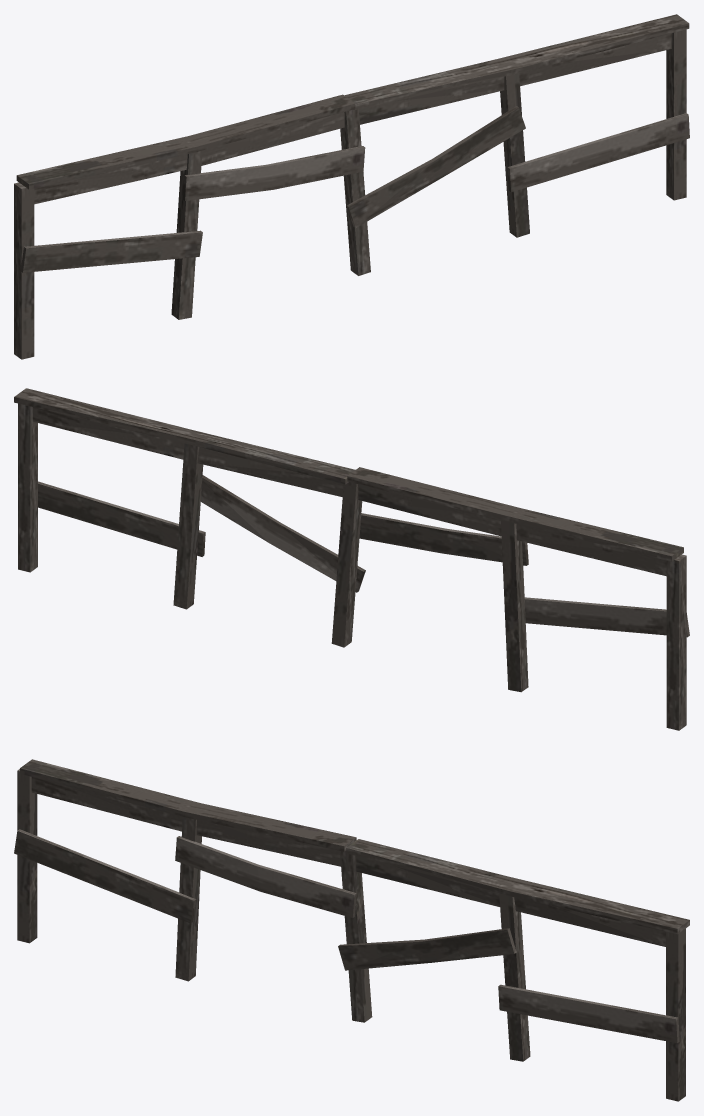
File: Stage_Obj017.fbx
3 views of the same model, one above another, from view 1: azimuth 30°, elevation 25°; view 2: azimuth 150°, elevation 25°; view 3: azimuth 330°, elevation 25° (orthographic).
Parts seen in each view (by area): view 1: SM_SampleGame_Fence009; view 2: SM_SampleGame_Fence009; view 3: SM_SampleGame_Fence009.
Boxes of the visible parts, box(x1,y1,x2,y2) form: SM_SampleGame_Fence009: box(14, 14, 689, 359); SM_SampleGame_Fence009: box(14, 388, 689, 730); SM_SampleGame_Fence009: box(14, 759, 689, 1101).
Bounding box in the file's own units: 524 × 133 × 20.54.
1 material, 1 textured.
